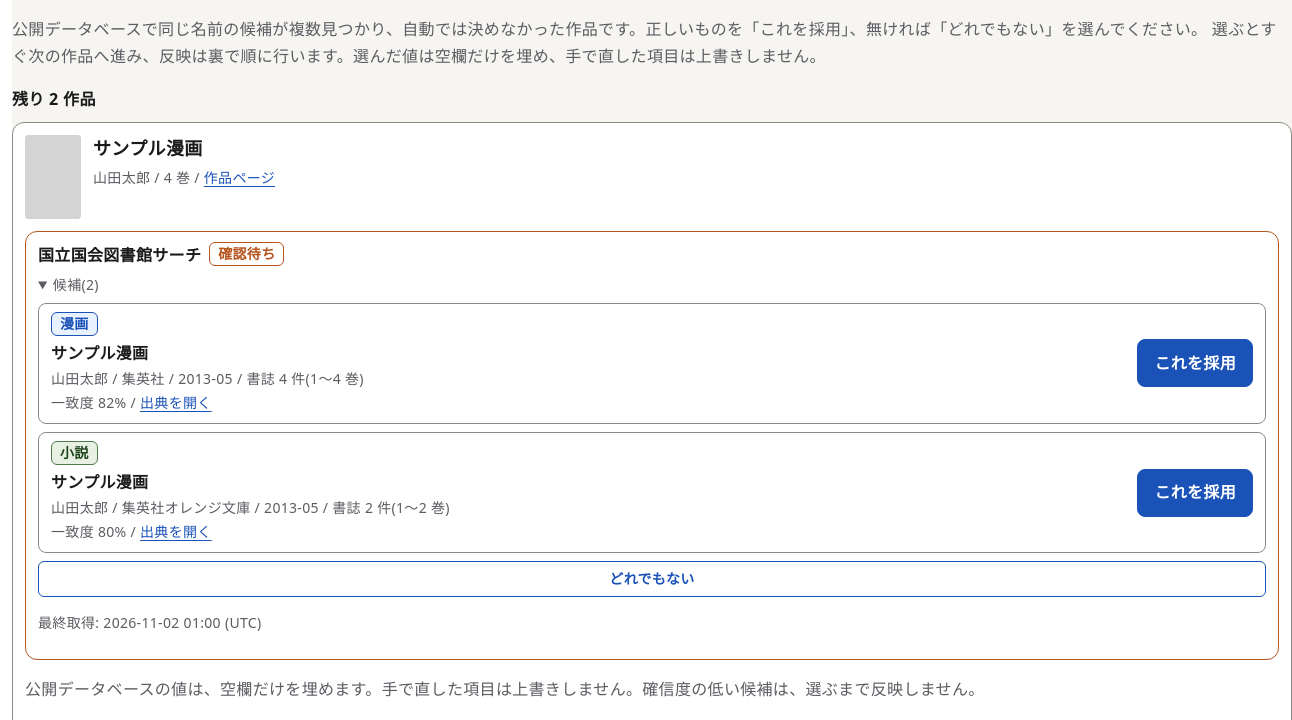
it: 公開DBの候補を続けて選ぶ(#254, #309) › 反映に失敗した作品は確認待ちへ戻り、理由を出す
Click the 1st button "これを採用" at (1195, 363), box [1137, 339, 1253, 387]
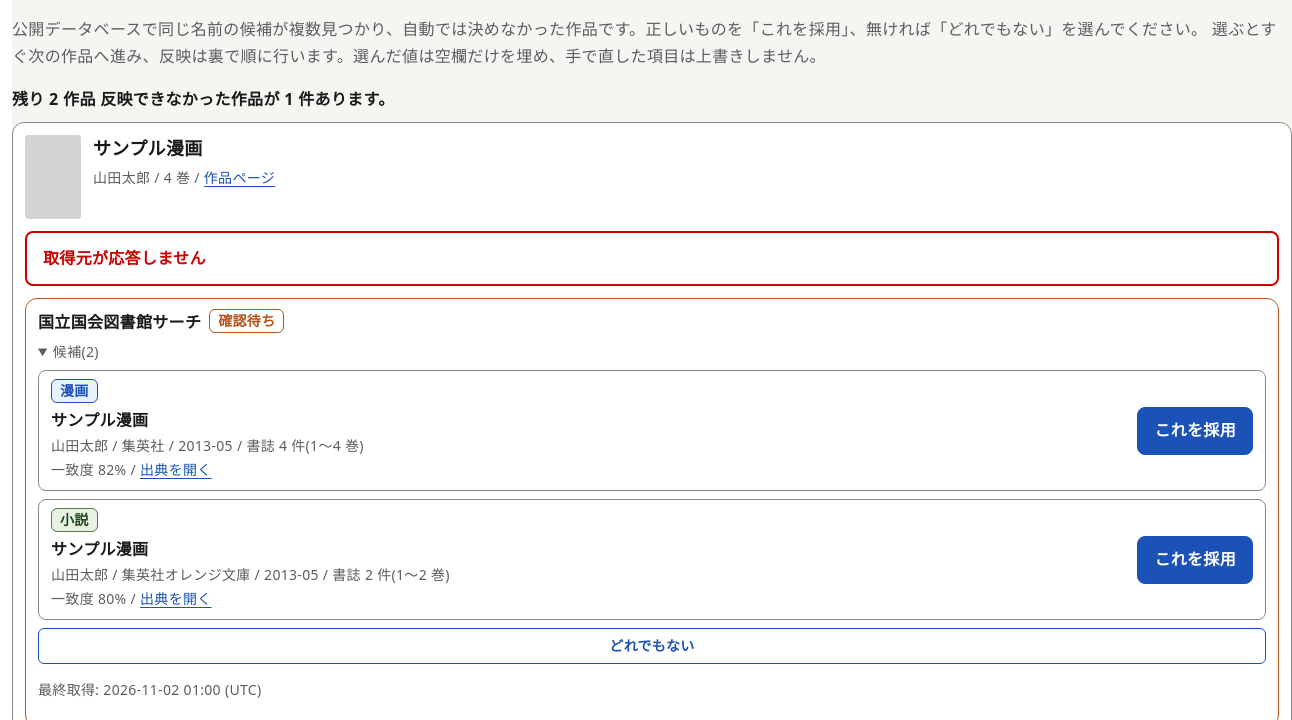
Expected: the number of buttons "これを採用" is 2, [1137, 406, 1253, 454]; [1137, 536, 1253, 584]
Now the message "取得元が応答しません" is shown, box [25, 231, 1279, 286]
Now the message "残り 2 作品 反映できなかった作品が 1 件あります。" is shown, box [12, 88, 394, 110]
